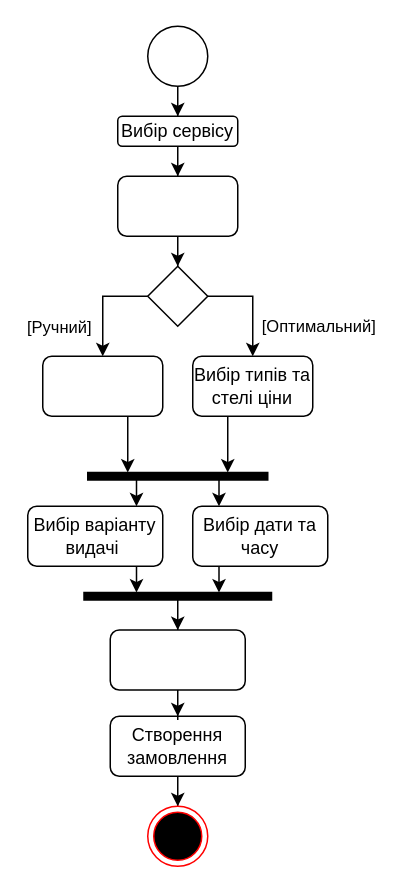
This 401x893 diagram has some shape labels left out. Each missing label, with the centre of its shape:
Вибір закладу: point 177,205
Вибір страв: point 102,385
Підтвердження замовлення: point 177,659
